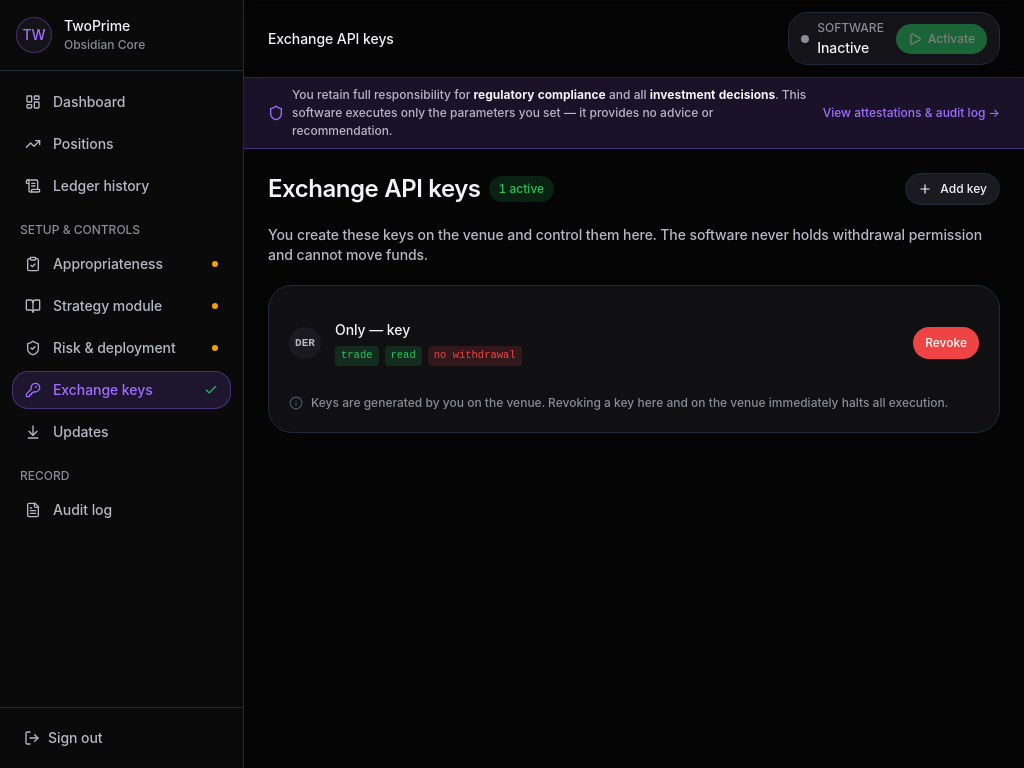
Test: ClientPortalShell › revoking the last active key demotes the trading-key precondition
This screenshot has width=1024, height=768.
Step 1. Click the button "Revoke" → (946, 343), box [913,327,979,359]
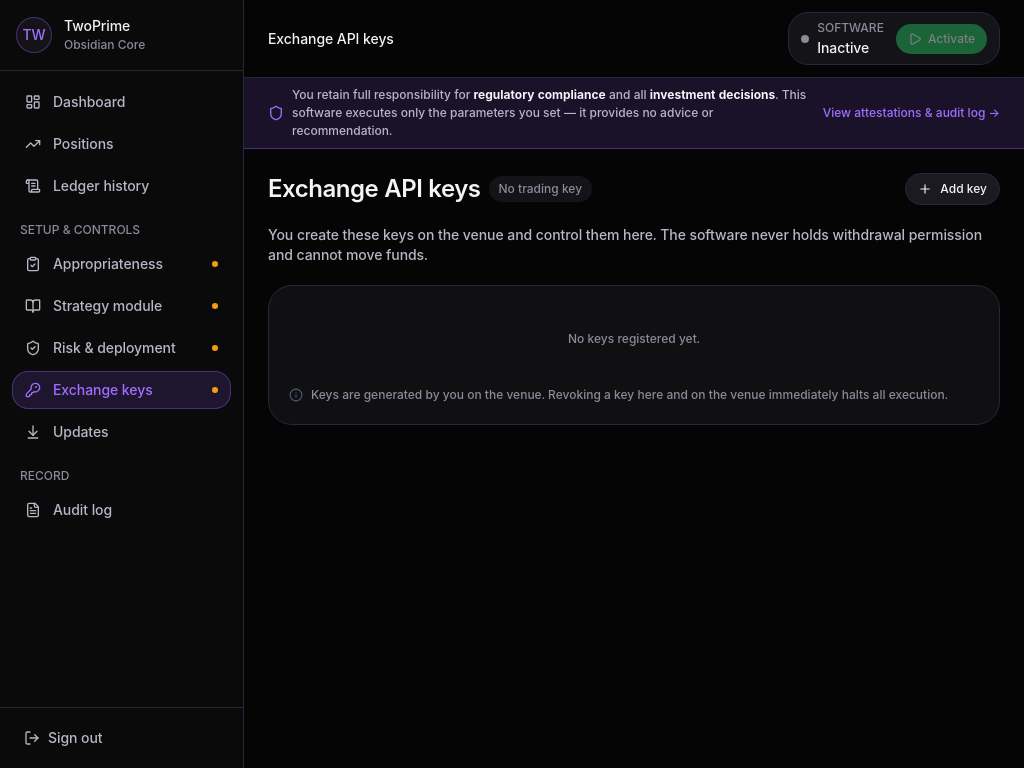
Expected: the text "No keys registered yet." is shown, [568,331,700,346]
